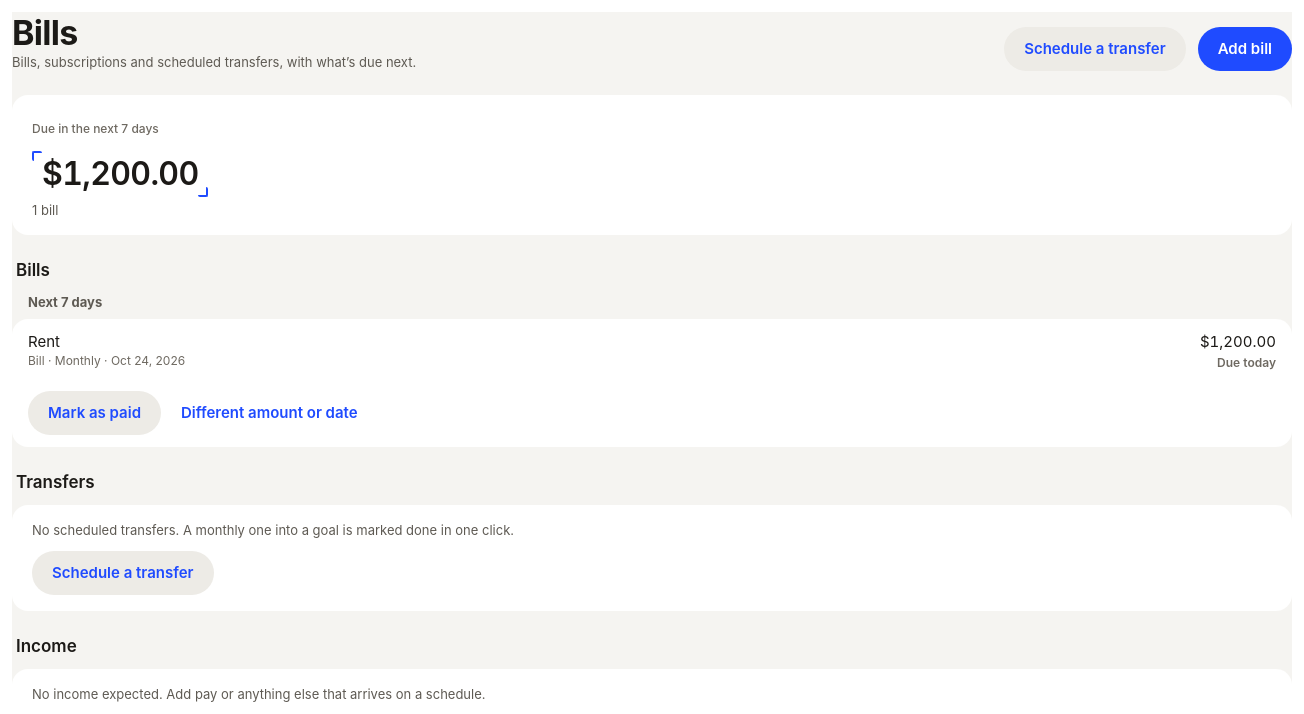
Test: BillsPage › marks a fixed bill paid in one step, and says when it is next due
Click the button "Mark as paid". click: {"x": 94, "y": 413}
box: x1=28 y1=391 x2=161 y2=435
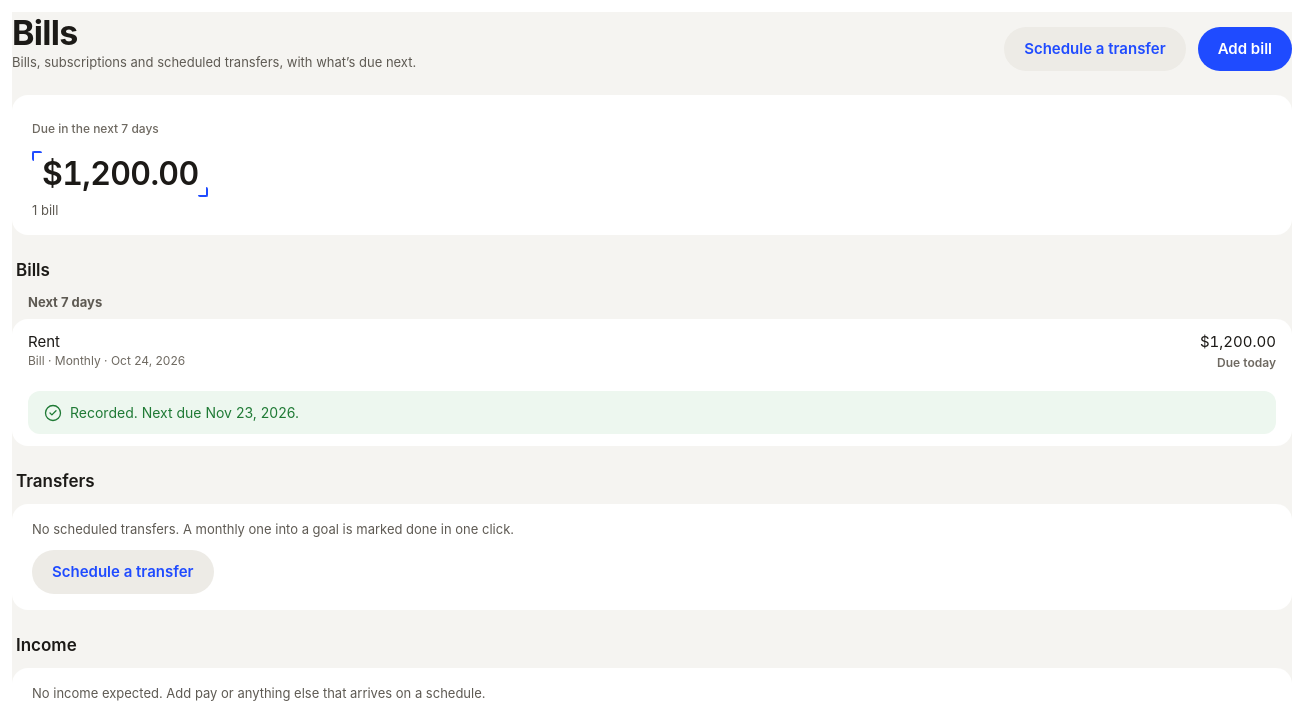
Result: the text "Recorded. Next due Nov 23, 2026." is shown at x1=70 y1=403 x2=299 y2=422
